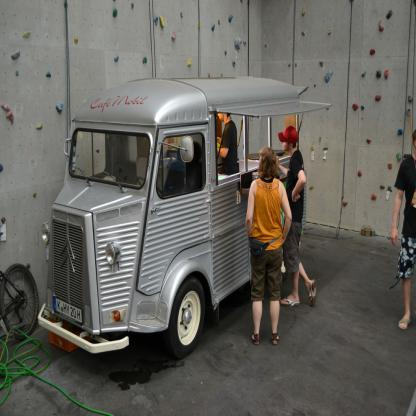Truck: (38, 77, 333, 358)
